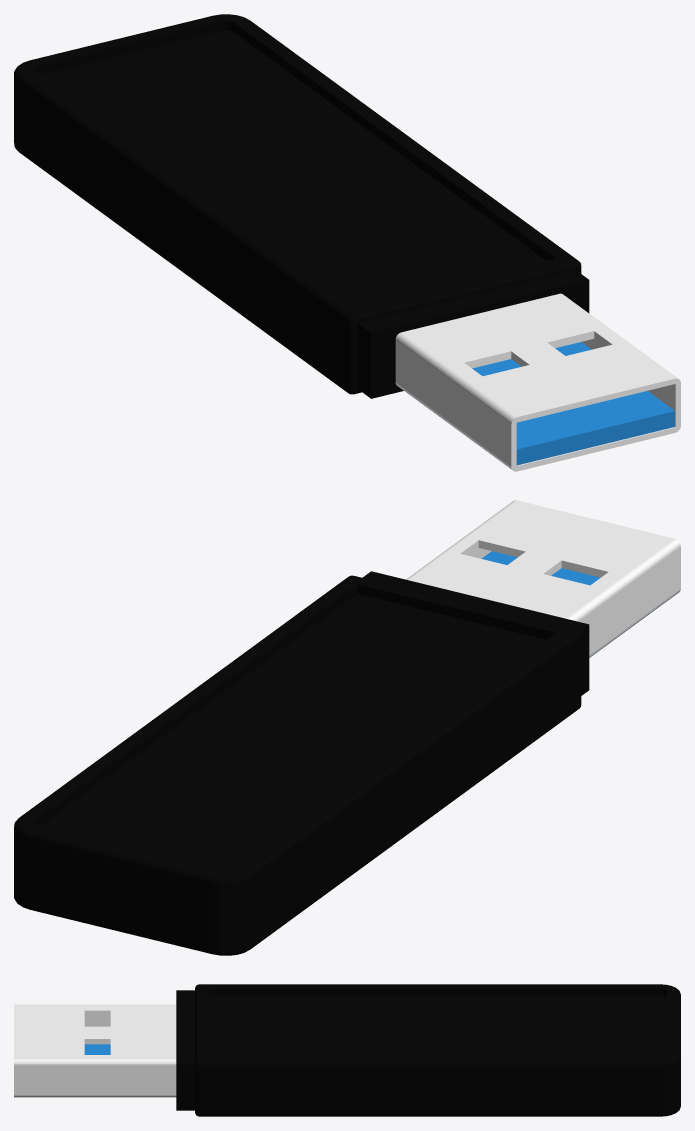
File: FlaskDrive.glb
The picture shows the model from 3 angles, top to bottom: view 1: azimuth 30°, elevation 25°; view 2: azimuth 150°, elevation 25°; view 3: azimuth 270°, elevation 25°; orthographic projection. The views are drawn at different scales.
Parts seen in each view (by area): view 1: Text.001_Text.001_Material.001, Text.001_Text.001_Material.002, Text.001_Text.001_Material.004; view 2: Text.001_Text.001_Material.001, Text.001_Text.001_Material.002, Text.001_Text.001_Material.004; view 3: Text.001_Text.001_Material.001, Text.001_Text.001_Material.002, Text.001_Text.001_Material.004.
Part boxes in pixels (box(x1,y1,x2,y2)): Text.001_Text.001_Material.001: box(14, 14, 589, 398); Text.001_Text.001_Material.002: box(395, 293, 680, 471); Text.001_Text.001_Material.004: box(397, 342, 674, 468); Text.001_Text.001_Material.001: box(14, 571, 589, 955); Text.001_Text.001_Material.002: box(406, 500, 680, 657); Text.001_Text.001_Material.004: box(481, 551, 674, 657); Text.001_Text.001_Material.001: box(176, 984, 680, 1116); Text.001_Text.001_Material.002: box(14, 1004, 176, 1097); Text.001_Text.001_Material.004: box(84, 1044, 110, 1054).
Size of the model in its own units: 1.05 by 0.3407 by 3.72.
